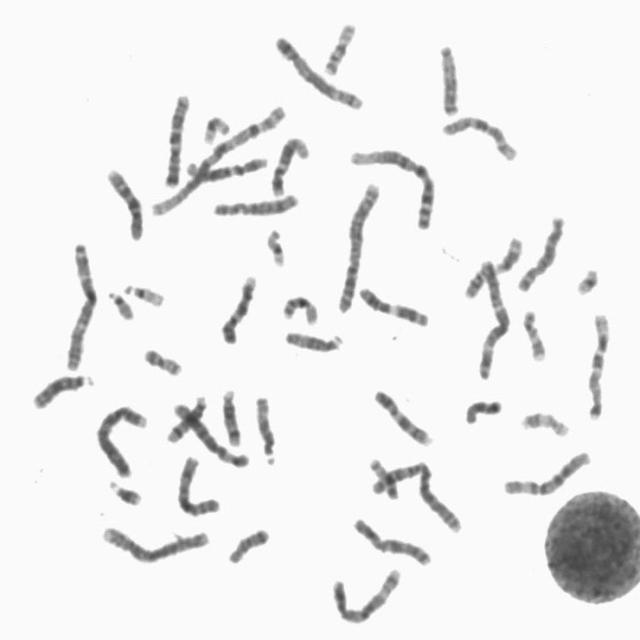A1: (146, 98, 292, 217), (344, 141, 440, 231)
A2: (365, 452, 466, 534), (332, 175, 384, 315)
A3: (61, 235, 101, 371), (471, 254, 513, 381)
B4: (96, 518, 214, 566), (93, 398, 152, 479)
B5: (270, 28, 368, 112), (328, 562, 405, 626)
C10: (438, 109, 522, 162), (102, 160, 147, 242)
C11: (458, 228, 526, 301), (355, 279, 433, 328)
C12: (267, 130, 313, 197), (180, 150, 272, 182)
C6: (168, 394, 254, 469), (498, 444, 594, 498)
C7: (583, 306, 614, 422), (159, 86, 193, 188)
C8: (513, 208, 568, 294), (208, 186, 303, 218)
C9: (370, 383, 436, 448), (217, 268, 260, 345)
D13: (28, 366, 98, 410), (435, 38, 463, 117)
D14: (163, 389, 211, 445), (217, 382, 245, 448)
D15: (252, 388, 281, 468), (281, 323, 347, 355)
E16: (319, 15, 360, 76), (278, 287, 322, 326)
E17: (519, 302, 551, 363), (518, 404, 574, 438)
E18: (224, 520, 273, 566), (460, 392, 506, 426)
F19: (199, 108, 234, 146), (262, 222, 289, 268)
F20: (364, 452, 403, 501), (139, 341, 187, 376)
G21: (105, 473, 146, 508), (572, 260, 602, 296)
G22: (120, 276, 169, 308), (104, 284, 137, 322)
X: (348, 511, 436, 567), (172, 448, 224, 518)
